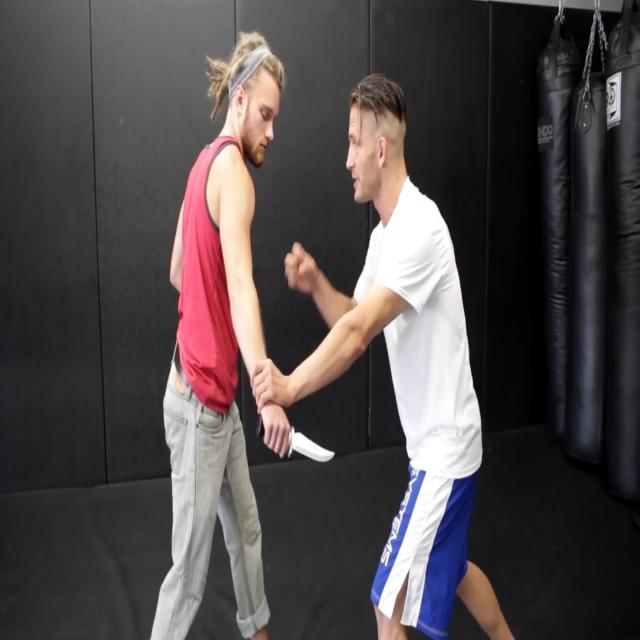knife: (289, 426, 338, 467)
